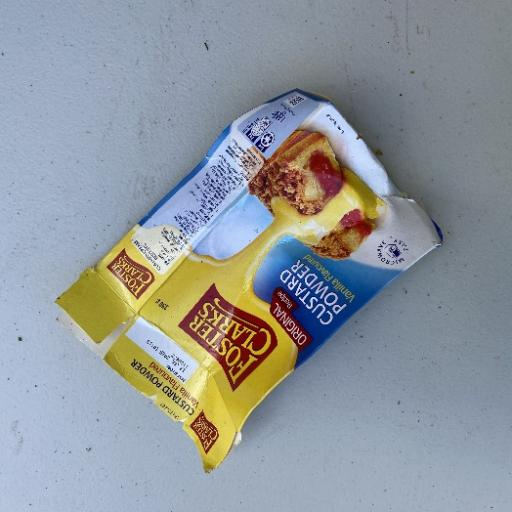Cardboard: (52, 86, 444, 473)
